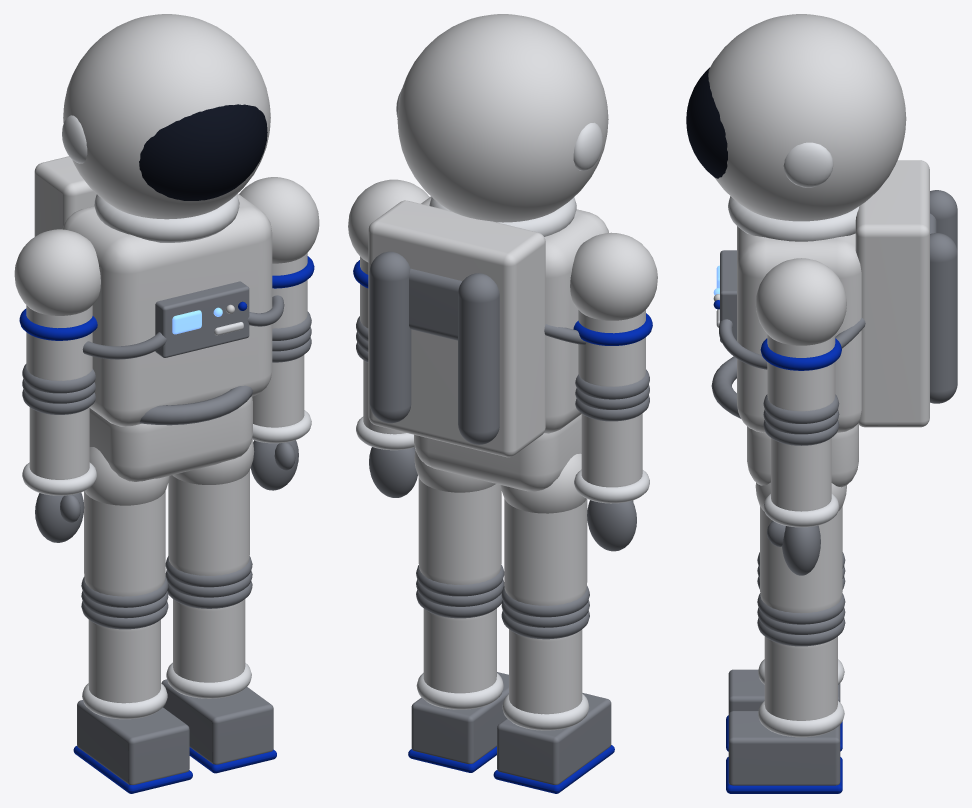
Rendered from astronaut.glb.
3 renders of one model, left to right at view 1: azimuth 30°, elevation 25°; view 2: azimuth 150°, elevation 25°; view 3: azimuth 270°, elevation 25°, orthographic.
Parts seen in each view (by area): view 1: Torso, Head, ArmR, LegR, ShinR, ShinL, LegL, ForearmR, BootR, BootL, ArmL, Chest (+6 smaller); view 2: Pack, Head, Torso, ArmR, LegR, ShinR, ShinL, LegL, ForearmR, BootR, BootL, ArmL (+3 smaller); view 3: Head, Pack, Torso, ArmL, ShinL, ForearmL, BootL, LegL, HandL, BootR, Chest, Hose.001.
Boxes of the visible parts, bbox=[...] form: Torso: bbox=[62, 193, 272, 481]; Head: bbox=[62, 14, 270, 219]; ArmR: bbox=[14, 229, 100, 380]; LegR: bbox=[84, 447, 169, 596]; ShinR: bbox=[81, 577, 168, 719]; ShinL: bbox=[165, 556, 252, 698]; LegL: bbox=[168, 438, 254, 575]; ForearmR: bbox=[22, 364, 96, 495]; BootR: bbox=[73, 700, 192, 793]; BootL: bbox=[161, 679, 276, 773]; ArmL: bbox=[239, 177, 319, 328]; Chest: bbox=[155, 281, 249, 357]; Pack: bbox=[368, 200, 545, 457]; Head: bbox=[396, 14, 608, 222]; Torso: bbox=[414, 196, 608, 491]; ArmR: bbox=[570, 232, 657, 386]; LegR: bbox=[500, 453, 587, 605]; ShinR: bbox=[501, 586, 589, 730]; ShinL: bbox=[416, 565, 504, 709]; LegL: bbox=[414, 450, 501, 584]; ForearmR: bbox=[574, 369, 649, 503]; BootR: bbox=[493, 693, 614, 793]; BootL: bbox=[408, 672, 508, 772]; ArmL: bbox=[348, 179, 429, 328]; Head: bbox=[686, 14, 906, 221]; Pack: bbox=[855, 160, 957, 427]; Torso: bbox=[711, 196, 861, 487]; ArmL: bbox=[755, 258, 846, 411]; ShinL: bbox=[757, 593, 845, 737]; ForearmL: bbox=[763, 394, 839, 527]; BootL: bbox=[726, 711, 842, 793]; LegL: bbox=[755, 482, 846, 613]; HandL: bbox=[767, 521, 820, 575]; BootR: bbox=[726, 669, 842, 751]; Chest: bbox=[713, 250, 736, 342]; Hose.001: bbox=[719, 318, 865, 369].
Bounding box in the file's own units: 1.01 × 2.4 × 0.802.
